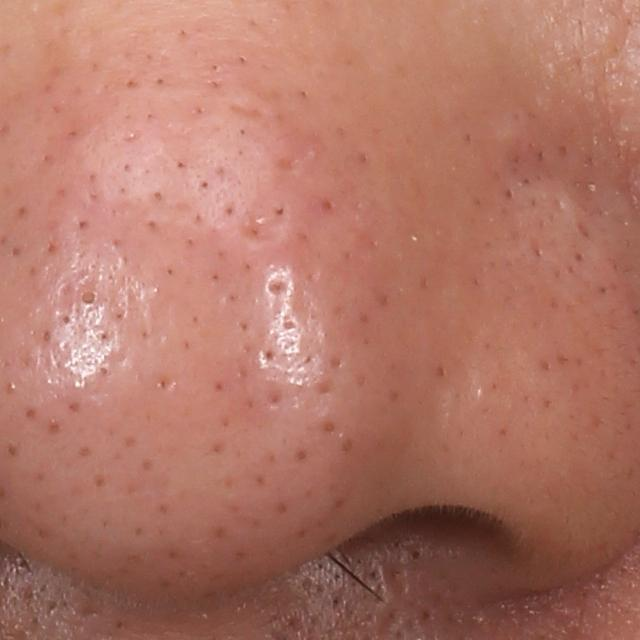comedo: (69, 286, 99, 309)
hypertrophic_scar: (493, 113, 530, 147)
